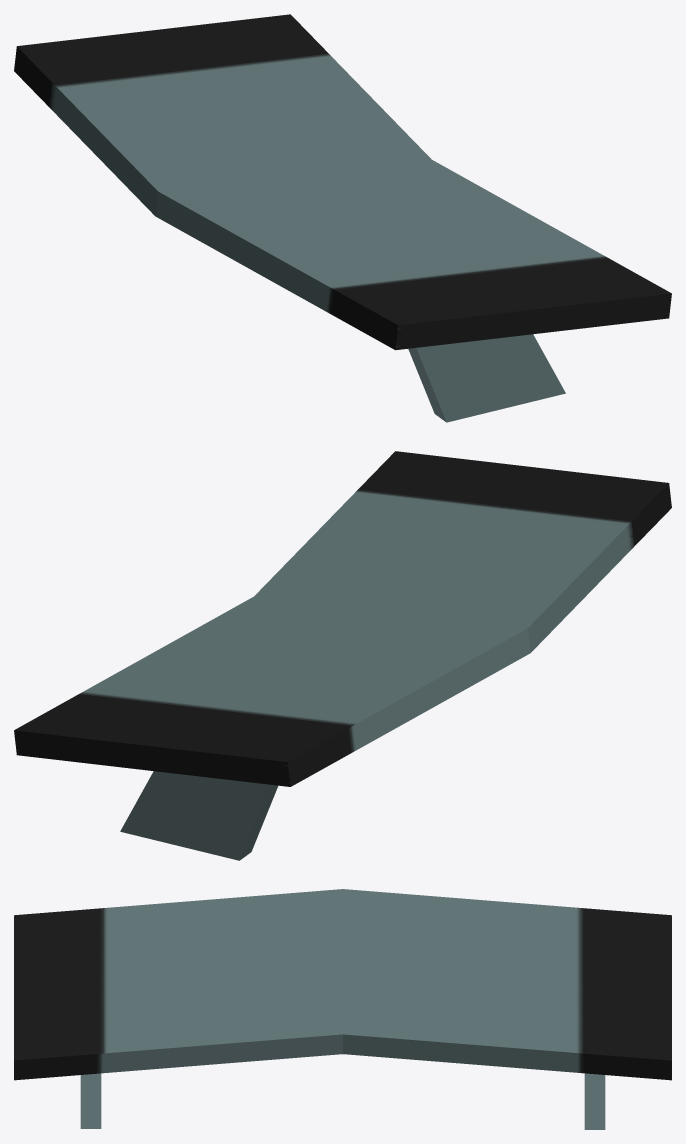
The model's file is Basecar_Spoiler.fbx.
3 renders of one model, top to bottom at view 1: azimuth 30°, elevation 25°; view 2: azimuth 150°, elevation 25°; view 3: azimuth 270°, elevation 25°, orthographic. The views are drawn at different scales.
Visible parts, largest first — view 1: Cube.027, Cube.029; view 2: Cube.027, Cube.007; view 3: Cube.027, Cube.007, Cube.029.
Part boxes in pixels (<box>): Cube.027: <box>14,14,671,350</box>; Cube.029: <box>408,334,565,422</box>; Cube.027: <box>14,451,671,786</box>; Cube.007: <box>120,771,278,860</box>; Cube.027: <box>14,889,671,1080</box>; Cube.007: <box>584,1073,605,1129</box>; Cube.029: <box>80,1073,101,1128</box>.
Bounding box in the file's own units: 64.43 × 29.18 × 131.
